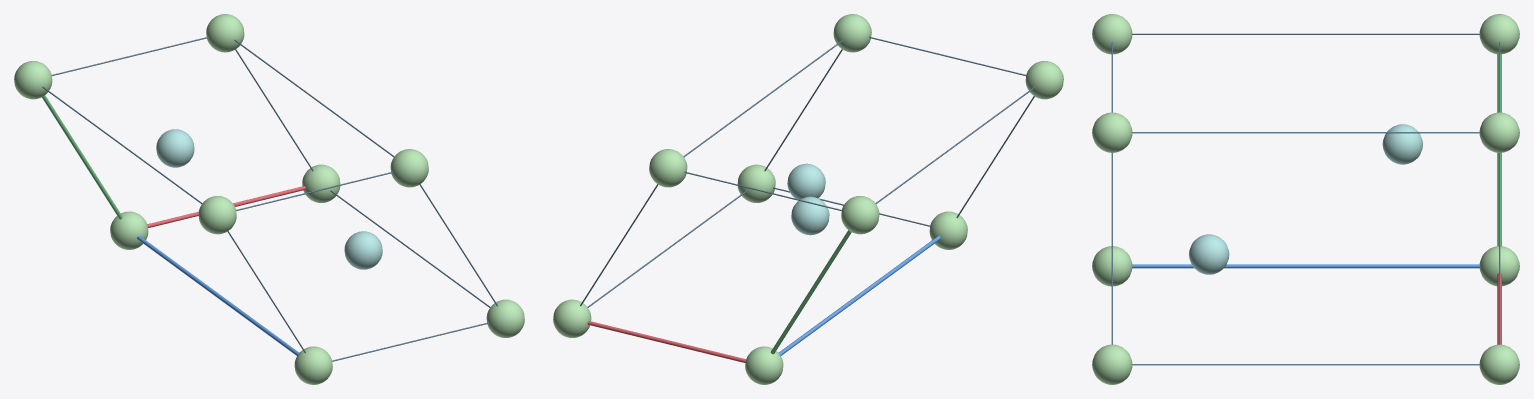
File: chat-cobalt-bromide.glb
The picture shows the model from 3 angles, left to right: view 1: azimuth 30°, elevation 25°; view 2: azimuth 150°, elevation 25°; view 3: azimuth 270°, elevation 25°; orthographic projection. The views are drawn at different scales.
Parts seen in each view (by area): view 1: Co · Co · 1 (×8), Ô mạng và các trục a, b, c, Br · Br · 1 (×2); view 2: Co · Co · 1 (×8), Ô mạng và các trục a, b, c, Br · Br · 1 (×2); view 3: Co · Co · 1 (×8), Ô mạng và các trục a, b, c, Br · Br · 1 (×2).
Part boxes in pixels (box(x1,y1,x2,y2)): Co · Co · 1 (×8): box(14, 14, 524, 384); Ô mạng và các trục a, b, c: box(42, 36, 497, 361); Br · Br · 1 (×2): box(156, 129, 382, 269); Co · Co · 1 (×8): box(553, 14, 1063, 384); Ô mạng và các trục a, b, c: box(580, 36, 1035, 362); Br · Br · 1 (×2): box(787, 163, 829, 235); Co · Co · 1 (×8): box(1092, 14, 1519, 384); Ô mạng và các trục a, b, c: box(1111, 33, 1501, 365); Br · Br · 1 (×2): box(1189, 124, 1422, 274).
Size of the model in its own units: 6.16 by 3.83 by 6.76.
